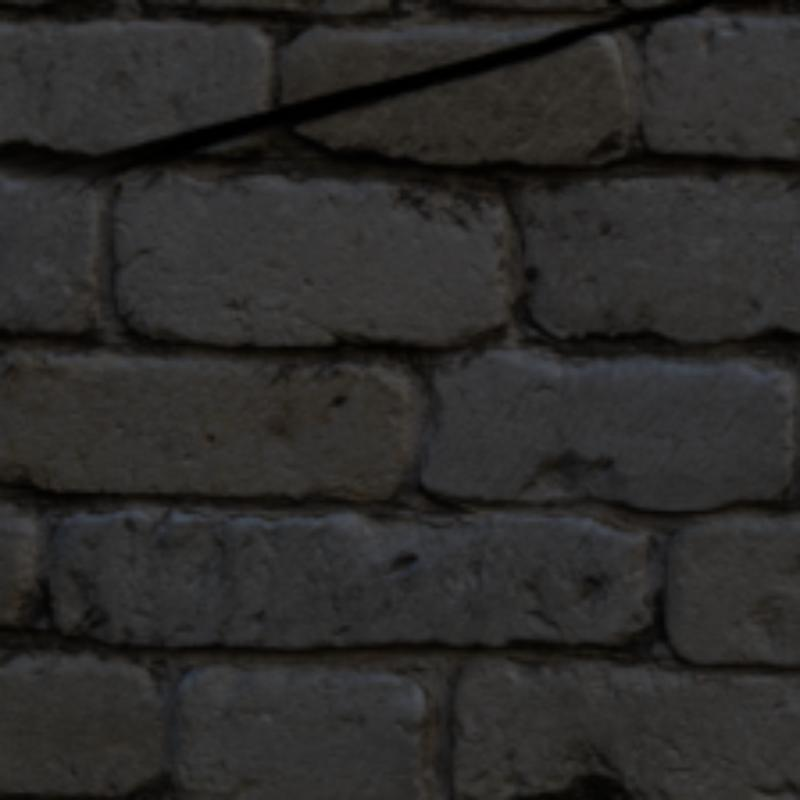pothole: (0, 0, 711, 179)
